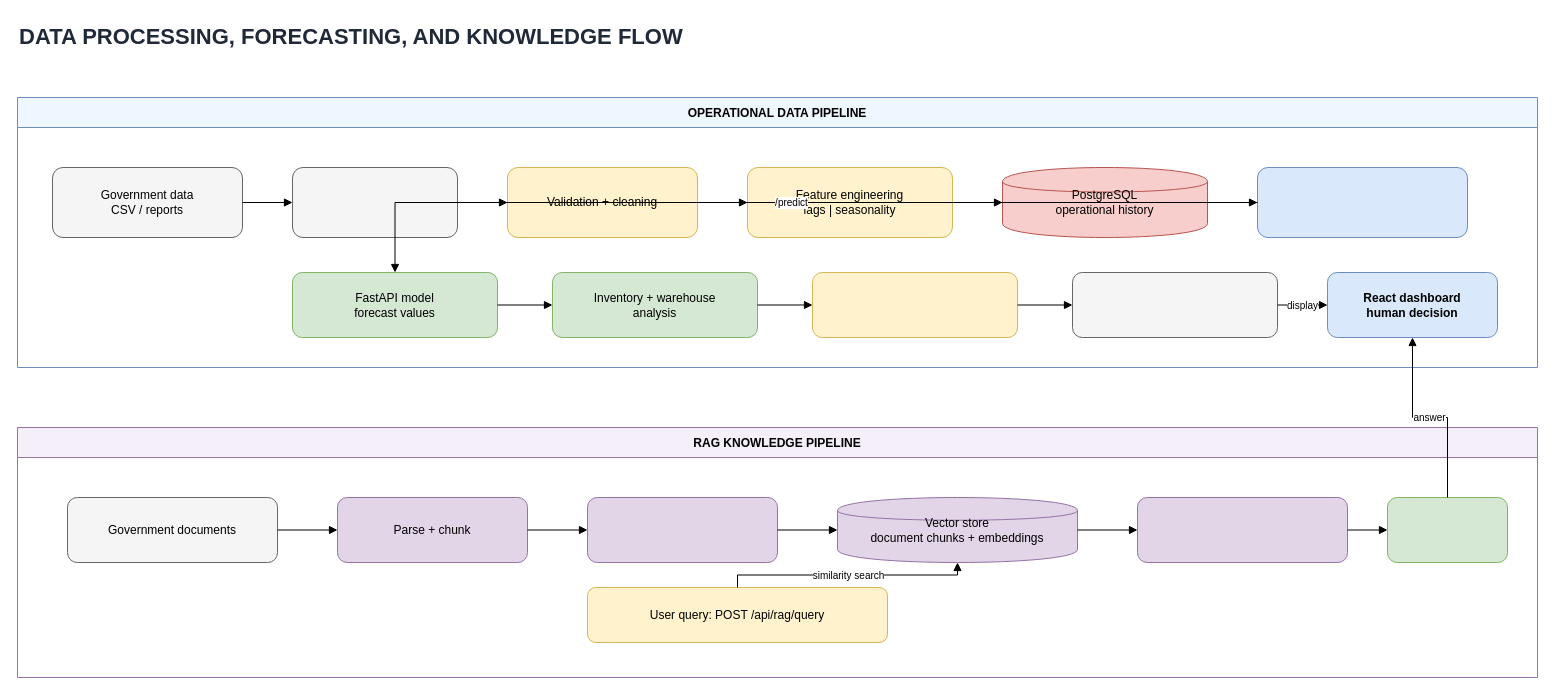
Image size: 1555x695. Some labels were removed from this diagram. Each missing label, with the centre of its shape:
"Answer + citations" goes at point (1447, 529).
"Embedding generation" goes at point (682, 529).
"Express API" goes at point (1362, 202).
"Ingestion" goes at point (375, 202).
"LLM answer generation grounded response" goes at point (1242, 529).
"Recommendation engine" goes at point (915, 305).
"SHAP explanation" goes at point (1175, 305).
